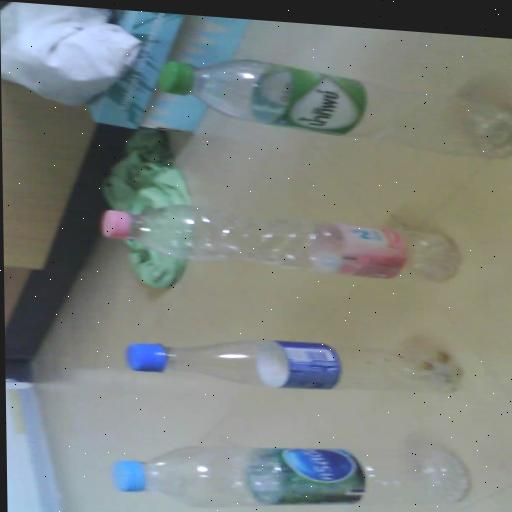bottle: (157, 54, 512, 160), (110, 426, 471, 512), (101, 200, 462, 284), (128, 328, 463, 402)
